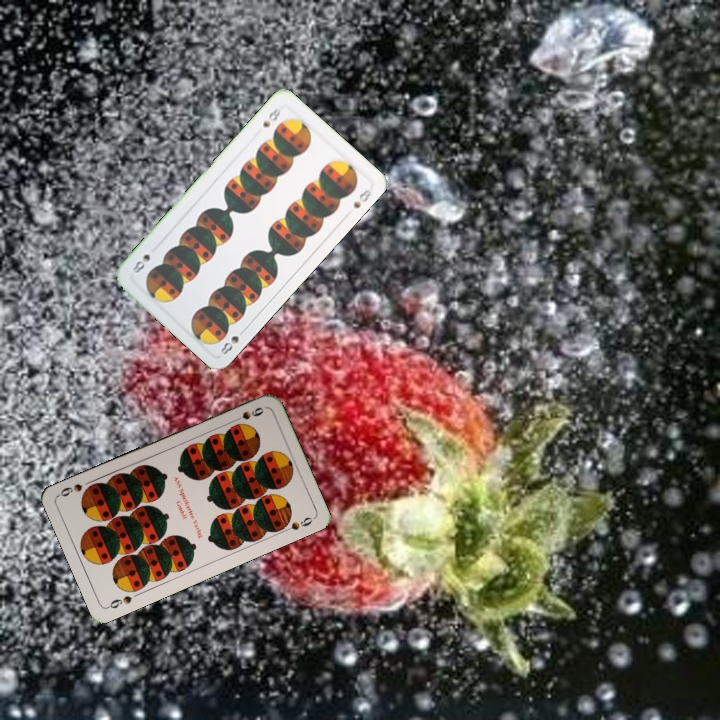S8: (216, 324, 249, 357), (258, 104, 283, 130)
S9: (229, 403, 266, 425), (103, 591, 134, 611)
